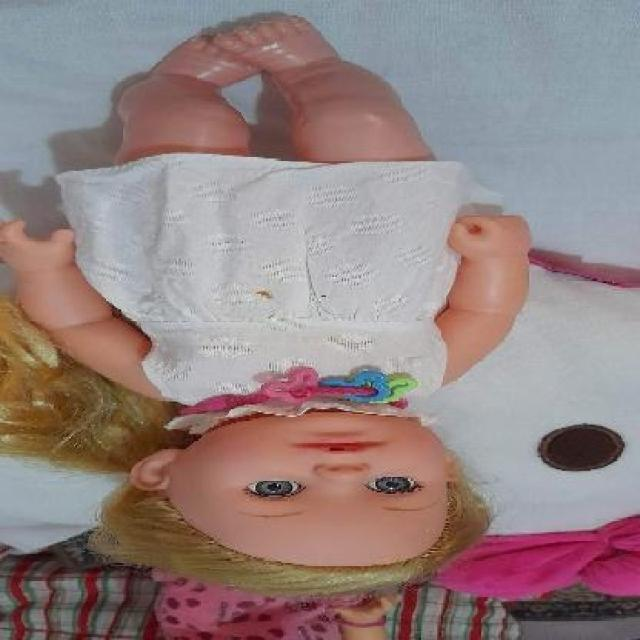non-dog: (1, 6, 533, 584)
